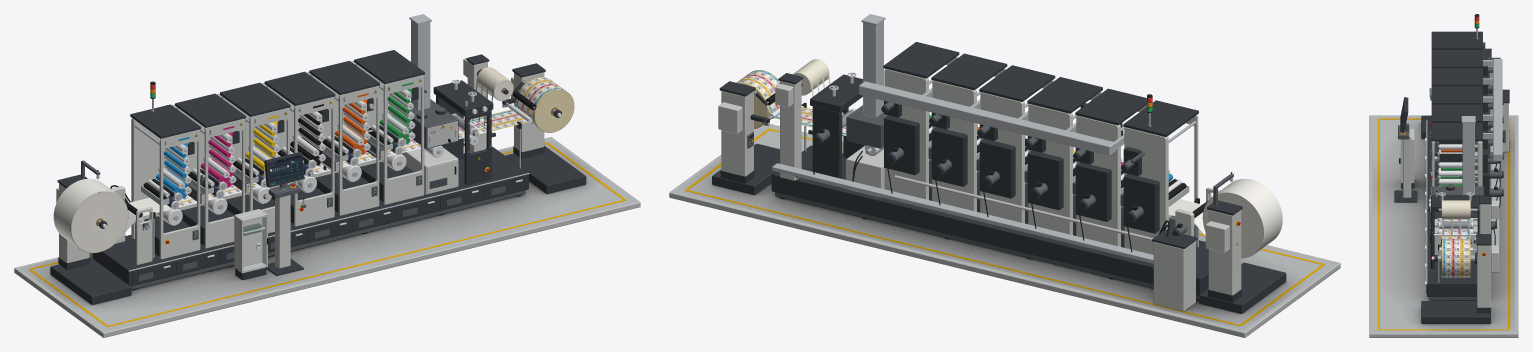
The model's file is offset.glb.
3 views of the same model, side by side, from view 1: azimuth 30°, elevation 25°; view 2: azimuth 150°, elevation 25°; view 3: azimuth 270°, elevation 25° (orthographic). The views are drawn at different scales.
Visible parts, largest first — view 1: socle, bati_tole_anthracite, rotatif_1, pupitre_tole_gris_clair, rembobineur_tole_anthracite, derouleur_tole_anthracite, bande, bati_graphite, g6_bati_avant, g5_bati_avant, g1_bati_avant, groupe_6_tole_anthracite (+30 smaller); view 2: socle, bati_tole_anthracite, extraction_collecteur, groupe_1_tole_anthracite, groupe_5_tole_anthracite, groupe_4_tole_anthracite, groupe_3_tole_anthracite, groupe_2_tole_anthracite, groupe_6_tole_anthracite, bati_chemin_cables, rotatif_1, decoupe_tole_anthracite (+22 smaller); view 3: socle, bati_tole_anthracite, rembobineur_tole_anthracite, groupe_6_tole_anthracite, rotatif_124, groupe_3_tole_anthracite, groupe_2_tole_anthracite, rembobineur_tole_gris_clair, groupe_5_tole_anthracite, groupe_4_tole_anthracite, groupe_1_tole_anthracite, extraction_collecteur (+29 smaller).
Boxes of the visible parts, box(x1,y1,x2,y2) form: socle: box(14, 137, 640, 337); bati_tole_anthracite: box(92, 146, 528, 286); rotatif_1: box(53, 178, 128, 253); pupitre_tole_gris_clair: box(234, 195, 290, 273); rembobineur_tole_anthracite: box(502, 63, 586, 193); derouleur_tole_anthracite: box(50, 174, 131, 304); bande: box(119, 80, 534, 239); bati_graphite: box(131, 143, 525, 289); g6_bati_avant: box(383, 75, 424, 204); g5_bati_avant: box(338, 86, 379, 215); g1_bati_avant: box(159, 129, 200, 259); groupe_6_tole_anthracite: box(354, 50, 424, 201); socle: box(669, 124, 1340, 337); bati_tole_anthracite: box(771, 145, 1208, 295); extraction_collecteur: box(859, 81, 1115, 155); groupe_1_tole_anthracite: box(1121, 100, 1198, 236); groupe_5_tole_anthracite: box(929, 53, 1007, 212); groupe_4_tole_anthracite: box(977, 65, 1055, 224); groupe_3_tole_anthracite: box(1025, 77, 1102, 235); groupe_2_tole_anthracite: box(1073, 88, 1146, 247); groupe_6_tole_anthracite: box(881, 42, 959, 200); bati_chemin_cables: box(772, 163, 1153, 263); rotatif_1: box(1202, 178, 1282, 258); decoupe_tole_anthracite: box(810, 74, 862, 178); socle: box(1369, 115, 1518, 337); bati_tole_anthracite: box(1426, 120, 1476, 296); rembobineur_tole_anthracite: box(1421, 234, 1491, 323); groupe_6_tole_anthracite: box(1431, 123, 1503, 218); rotatif_124: box(1441, 238, 1470, 277); groupe_3_tole_anthracite: box(1431, 68, 1503, 175); groupe_2_tole_anthracite: box(1431, 50, 1503, 157); rembobineur_tole_gris_clair: box(1477, 245, 1499, 307); groupe_5_tole_anthracite: box(1431, 104, 1503, 177); groupe_4_tole_anthracite: box(1431, 86, 1503, 177); groupe_1_tole_anthracite: box(1431, 31, 1503, 104); extraction_collecteur: box(1493, 59, 1502, 161).
Size of the model in its own units: 7.45 by 2.44 by 2.15.
Materials: 44 (12 with a texture image).
